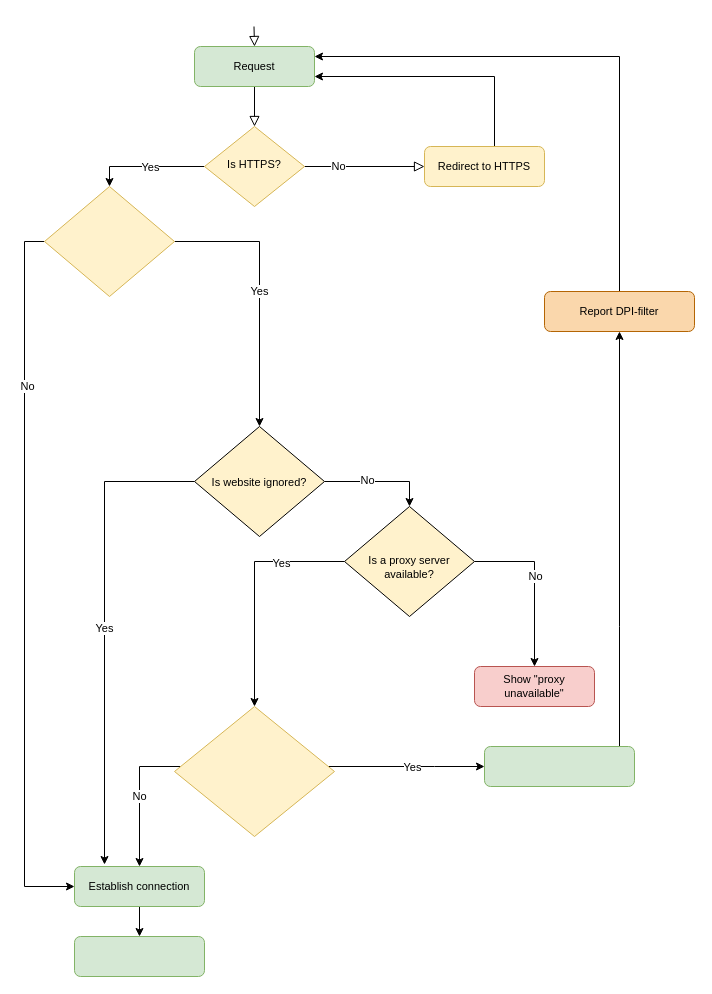
This 712x994 diagram has some shape labels left out. Here are the shapes that lost their labels. From the top down, the centre of each, then its label:
(x=109, y=241): Is there any error?
(x=254, y=771): Is there a website connection error?
(x=559, y=766): Add website to PAC-file
(x=139, y=956): Response
